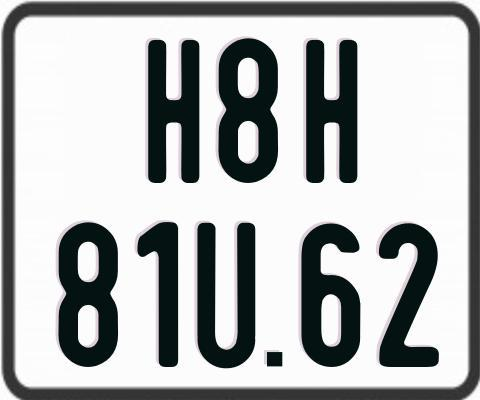1: (137, 222, 181, 368)
2: (379, 223, 445, 371)
6: (300, 220, 361, 368)
8: (217, 38, 278, 188), (58, 221, 119, 366)
H: (146, 38, 201, 186), (304, 38, 356, 186)
U: (194, 223, 254, 368)
